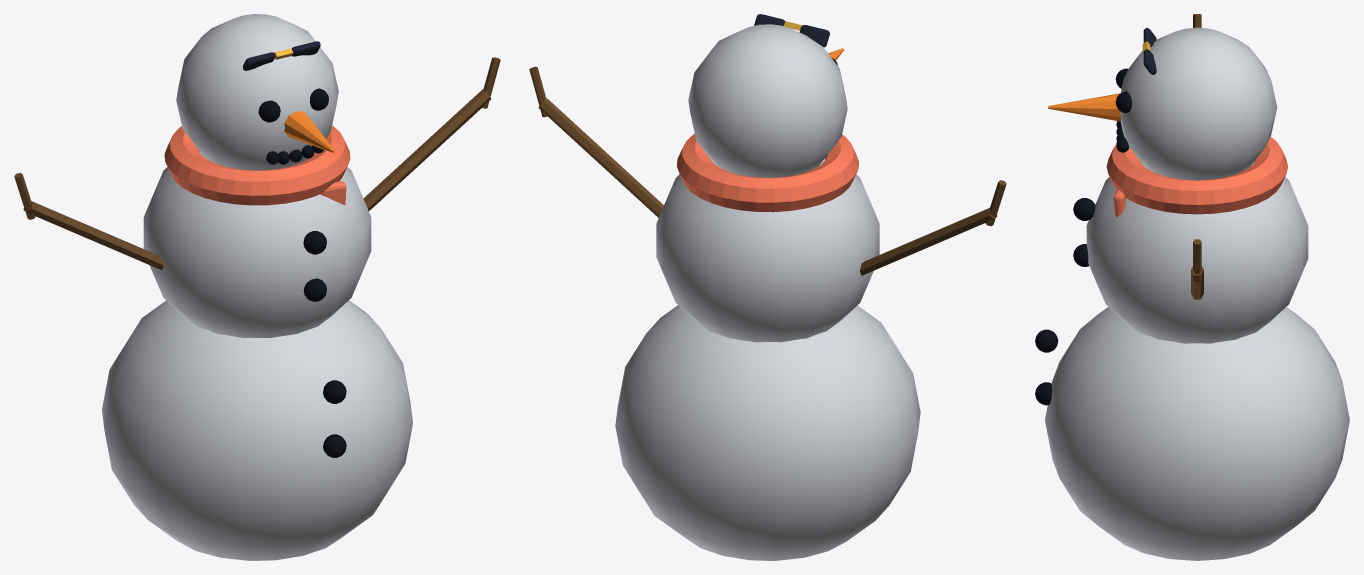
File: snowman.glb
3 renders of one model, left to right at view 1: azimuth 30°, elevation 25°; view 2: azimuth 150°, elevation 25°; view 3: azimuth 270°, elevation 25°, orthographic. The views are drawn at different scales.
Visible parts, largest first — view 1: base, mid, head, scarf, arm1, arm-1, carrot; view 2: base, mid, head, scarf, arm1, arm-1; view 3: base, mid, head, scarf, carrot, button2, button0.
Boxes of the visible parts, <box> form: base: <box>102,300,412,560</box>; mid: <box>143,151,371,337</box>; head: <box>176,14,338,170</box>; scarf: <box>164,125,350,205</box>; arm1: <box>363,89,491,210</box>; arm-1: <box>23,201,163,270</box>; carrot: <box>284,111,334,152</box>; base: <box>615,305,920,560</box>; mid: <box>656,159,879,342</box>; head: <box>688,24,847,177</box>; scarf: <box>677,134,858,212</box>; arm1: <box>538,98,663,217</box>; arm-1: <box>860,208,997,275</box>; base: <box>1045,307,1349,560</box>; mid: <box>1086,162,1308,343</box>; head: <box>1120,27,1277,180</box>; scarf: <box>1106,136,1287,214</box>; carrot: <box>1048,93,1120,121</box>; button2: <box>1035,329,1058,352</box>; button0: <box>1073,198,1095,220</box>.
Bounding box in the file's own units: 1.5 × 1.56 × 0.867.
